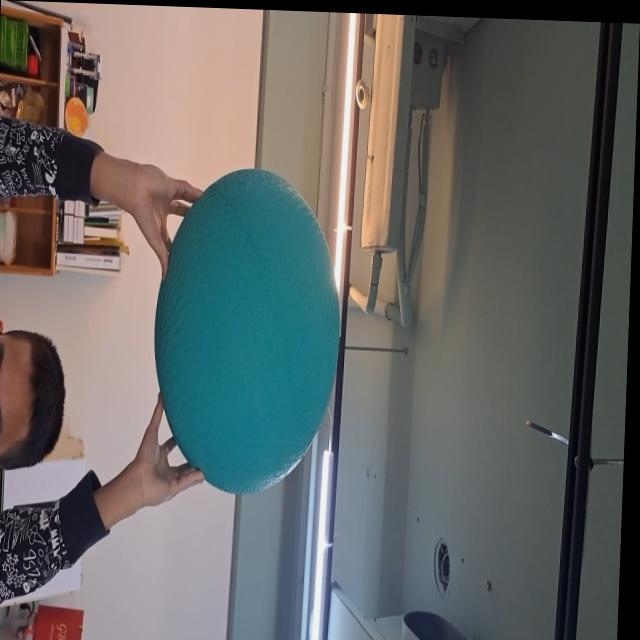ALGAE: (148, 166, 346, 497)
